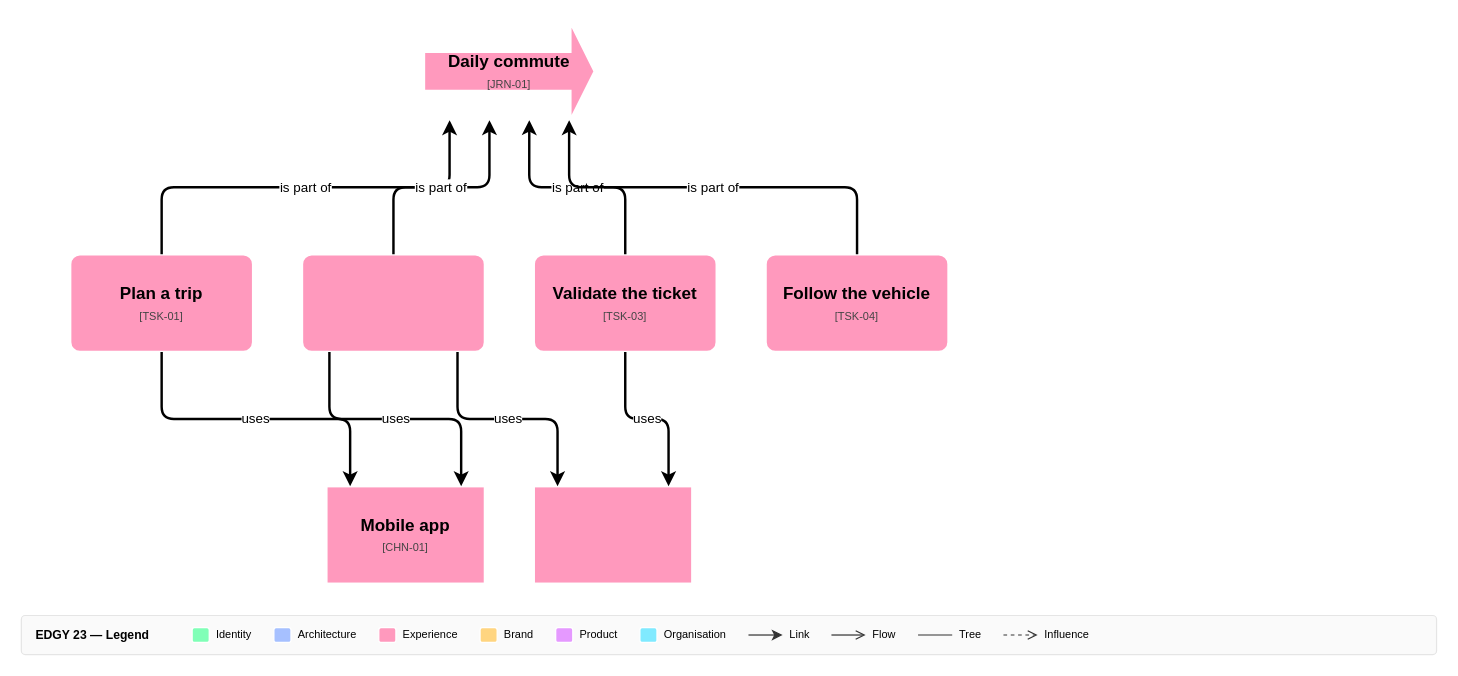
Image size: 1458x676. Some labels were removed from this diagram. The centre of each missing label's shape, as x and y in pixels:
"Buy a ticket [TSK-02]" belongs at (393,303).
"Ticket machine [CHN-02]" belongs at (612,534).
